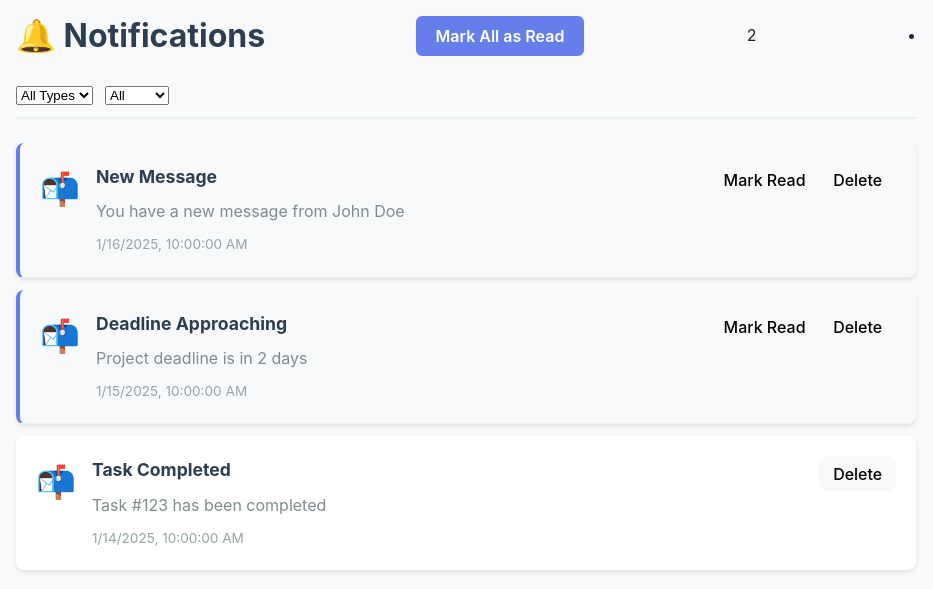
Test: NotificationCenter Component › Filtering › should filter notifications by type
Select "info" in the dropdown with test id "type-filter" at (54, 96), box [16, 86, 93, 105]
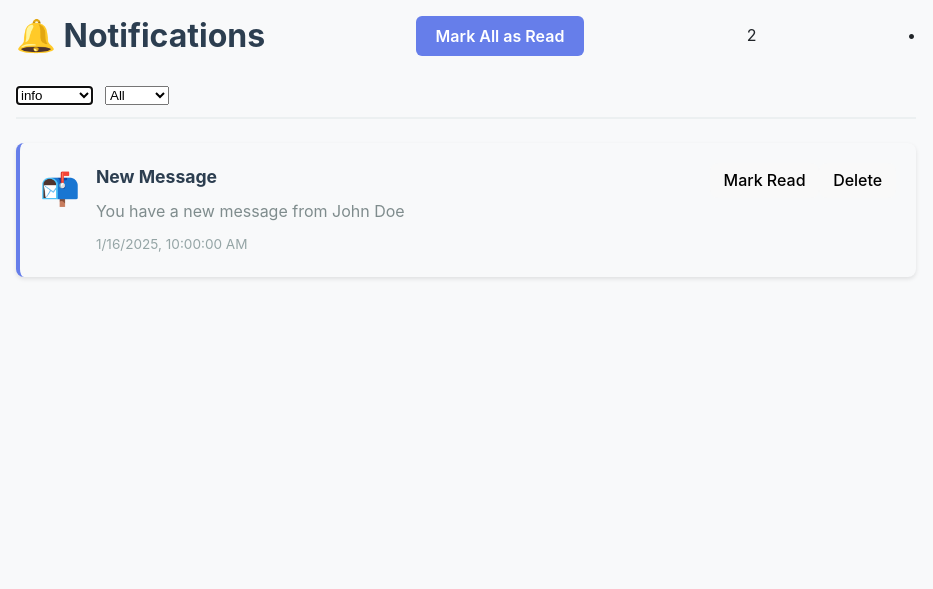
Expected: the heading "New Message" is shown, [96, 166, 217, 187]
Expected: the heading "Deadline Approaching" is gone
